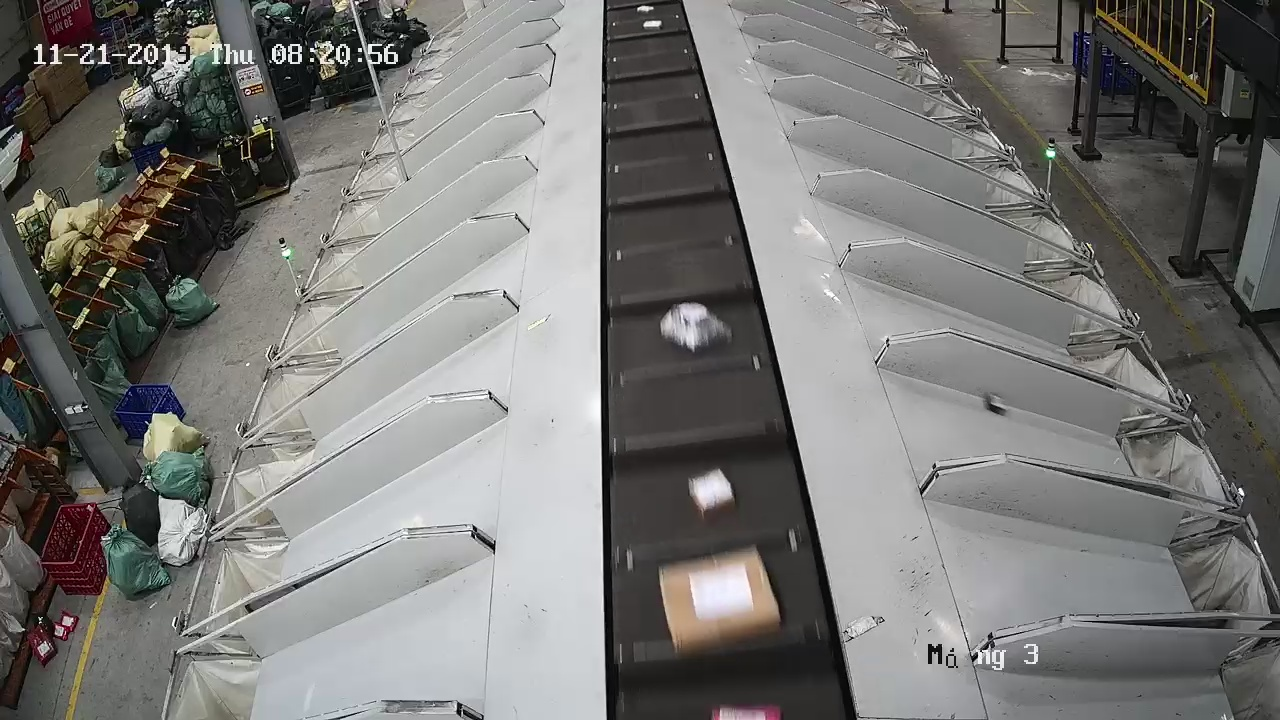parcel: (687, 468, 738, 524)
